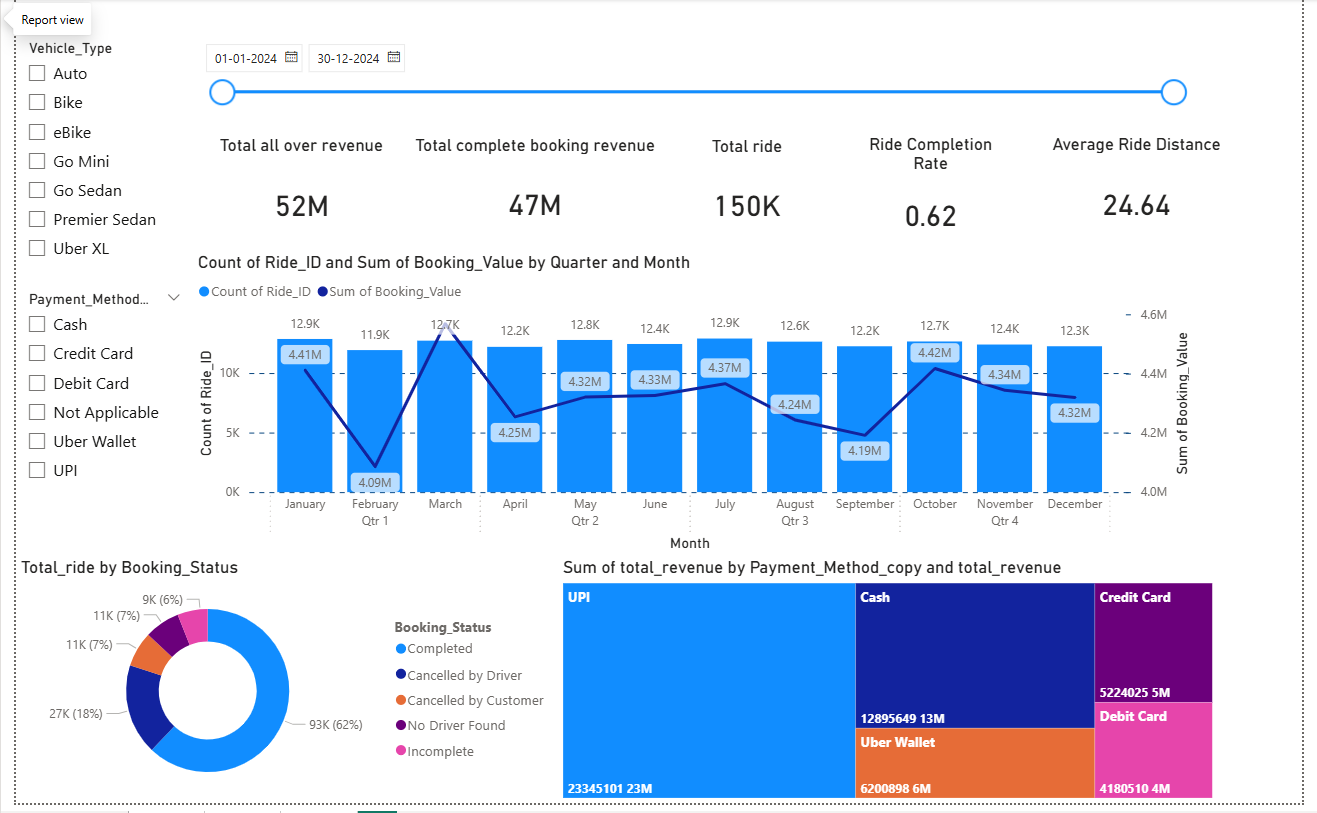

Layout of this report page (visuals, bound fields, positions):
{"tool":"powerbi","page":{"name":"Page 1","canvas":[1280,800],"ordinal":0},"visuals":[{"type":"card","title":"Total all over revenue","fields":{"Values":["rideBookings.total_revenue"]},"box":[176.6,135.2,215.6,116.9],"z":0},{"type":"lineStackedColumnComboChart","fields":{"Category":["rideBookings.Date_.Variation.Date Hierarchy.Quarter","rideBookings.Date_.Variation.Date Hierarchy.Month"],"Y2":["Sum(rideBookings.Booking_Value)"],"Y":["CountNonNull(rideBookings.Ride_ID)"]},"box":[176.6,252.1,996.2,303.3],"z":1000},{"type":"slicer","fields":{"Values":["rideBookings.Vehicle_Type"]},"box":[0,35.4,176,251.4],"z":2000},{"type":"card","title":"Total complete booking revenue","fields":{"Values":["rideBookings.total_complete_booking_revenue"]},"box":[392,135.3,248.8,115.4],"z":3000},{"type":"card","title":"Total ride","fields":{"Values":["rideBookings.Total_ride"]},"box":[640.6,136.4,172.9,115.7],"z":4000},{"type":"card","title":"Ride Completion Rate","fields":{"Values":["rideBookings.overall Ride Completion Rate"]},"box":[813.5,134,192.4,116.9],"z":5000},{"type":"slicer","fields":{"Values":["rideBookings.Date_"]},"box":[176.6,35.3,996.2,98.6],"z":6000},{"type":"slicer","fields":{"Values":["rideBookings.Payment_Method_copy"]},"box":[0,286,176,269],"z":7000},{"type":"card","title":"Average Ride  Distance","fields":{"Values":["rideBookings.average_ride_distance"]},"box":[1006,134.3,217.9,116.4],"z":8000},{"type":"donutChart","fields":{"Category":["rideBookings.Booking_Status"],"Y":["rideBookings.Total_ride"]},"box":[0,555.4,539.5,244.8],"z":9000},{"type":"treemap","fields":{"Group":["total_revenue_by_payment_methods.Payment_Method_copy"],"Values":["Sum(total_revenue_by_payment_methods.total_revenue)"],"Details":["total_revenue_by_payment_methods.total_revenue"]},"box":[539.5,555.4,656.4,244.8],"z":10000}]}

Visuals, with their boxes on the page's 1280x800 design canvas (x1, y1, x2, y2). These are canvas units, not pixel positions in the 1317x813 screenshot, which may show the page scaled, cropped or inside an application window:
"Total all over revenue" card: (left=177, top=135, right=392, bottom=252)
lineStackedColumnComboChart - rideBookings.Date_.Variation.Date Hierarchy.Quarter x rideBookings.Date_.Variation.Date Hierarchy.Month: (left=177, top=252, right=1173, bottom=555)
slicer - rideBookings.Vehicle_Type: (left=0, top=35, right=176, bottom=287)
"Total complete booking revenue" card: (left=392, top=135, right=641, bottom=251)
"Total ride" card: (left=641, top=136, right=814, bottom=252)
"Ride Completion Rate" card: (left=814, top=134, right=1006, bottom=251)
slicer - rideBookings.Date_: (left=177, top=35, right=1173, bottom=134)
slicer - rideBookings.Payment_Method_copy: (left=0, top=286, right=176, bottom=555)
"Average Ride  Distance" card: (left=1006, top=134, right=1224, bottom=251)
donutChart - rideBookings.Booking_Status x rideBookings.Total_ride: (left=0, top=555, right=540, bottom=800)
treemap - total_revenue_by_payment_methods.Payment_Method_copy x Sum(total_revenue_by_payment_methods.total_revenue): (left=540, top=555, right=1196, bottom=800)
